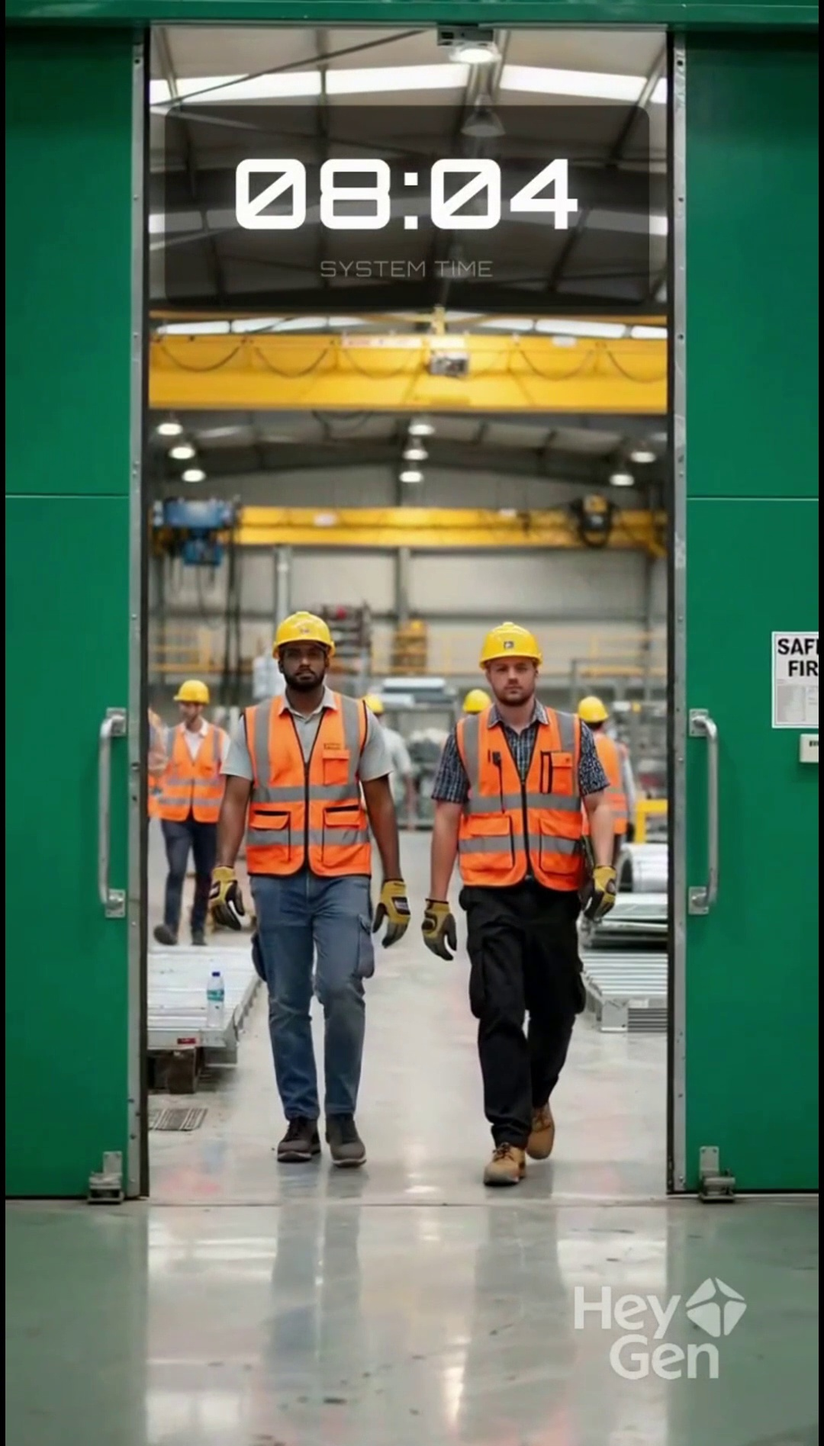Amir: (473, 621, 564, 725)
Sami: (254, 613, 366, 707)
employe: (435, 604, 623, 1203), (226, 602, 406, 1210)
porte_verte: (10, 0, 824, 1196)
temp: (176, 114, 644, 312)
